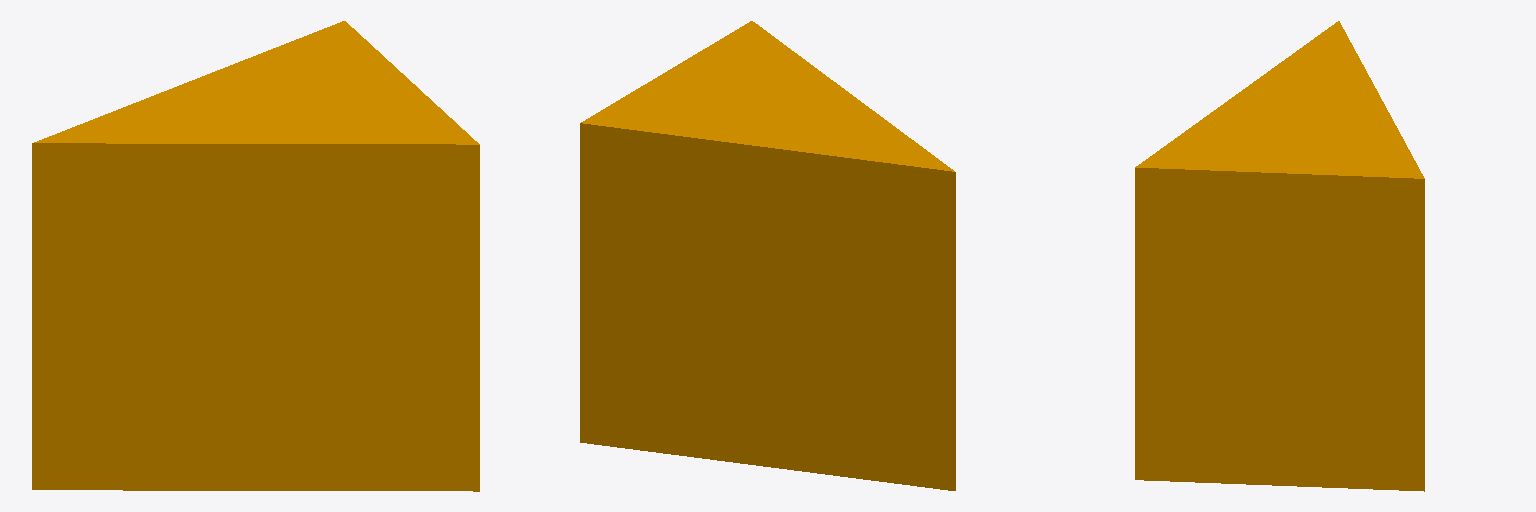
robot.urdf — object:
<?xml version="1.0"?>
<robot name="object">
  <link name="object">
    <visual>
      <origin xyz="0 0 0"/>
      <geometry>
        <mesh filename="meshes/generated/col_012.obj" scale="0.03 0.03 0.03"/>
      </geometry>
    </visual>
    <collision>
      <origin xyz="0 0 0"/>
      <geometry>
        <mesh filename="meshes/generated/col_012.obj" scale="0.03 0.03 0.03"/>
      </geometry>
    </collision>
    <inertial>
      <density value="1000.0"/>
    </inertial>
  </link>
</robot>

--- Facts derived from the render (not from the file) ---
The picture shows the robot from 3 angles, left to right: view 1: azimuth 30°, elevation 25°; view 2: azimuth 150°, elevation 25°; view 3: azimuth 270°, elevation 25°; orthographic projection.
Model object with 1 links and 0 joints (none), rooted at object, posed all joints at 0.
Visible links, largest first — view 1: object; view 2: object; view 3: object.
Boxes of the visible links, box(x1,y1,x2,y2) form: object: box(32, 21, 479, 491); object: box(580, 21, 955, 490); object: box(1135, 21, 1424, 491).
Bounding box of the posed robot: 0.0652 × 0.0504 × 0.06 m (x, y, z).
1 mesh visuals loaded from 1 distinct referenced files (1 OBJ).
